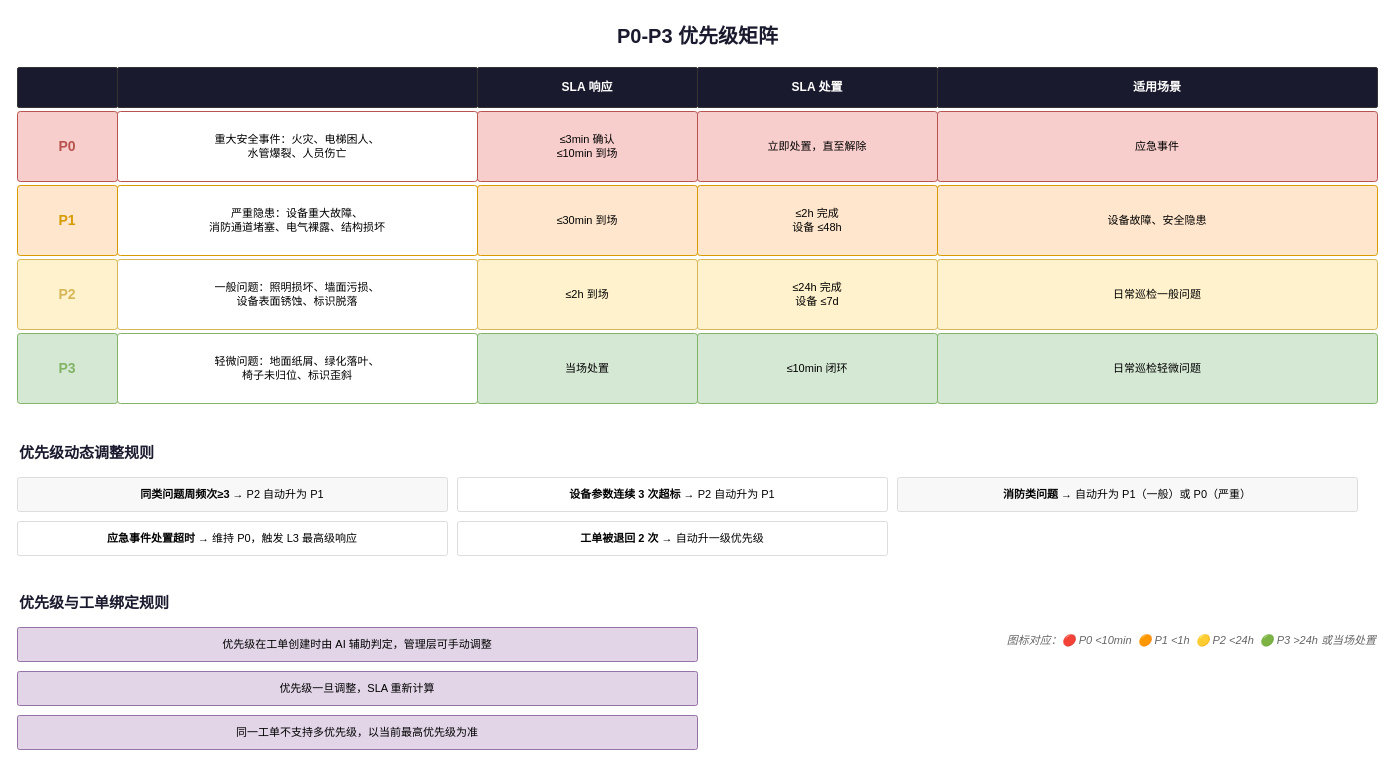
Some shapes in this 1395 by 767 pixel diagram are drawn without their labels. The shapes that lost their labels are listed below. From the top down, each one's centre as x and y in pixels, then its label:
At pixel 67 87: "级别".
At pixel 297 87: "判定条件".
